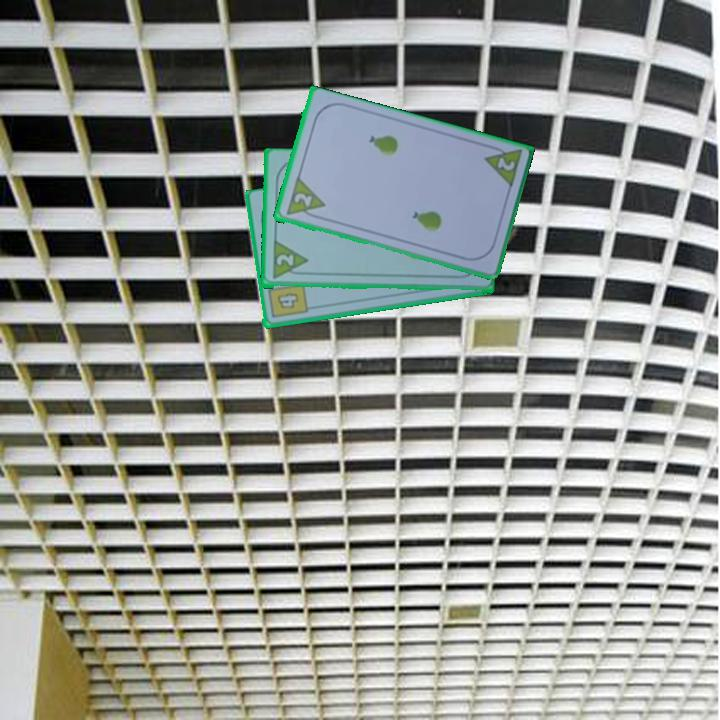2p: (480, 141, 524, 192), (282, 175, 327, 222), (273, 251, 296, 270)
4b: (264, 278, 310, 321)
